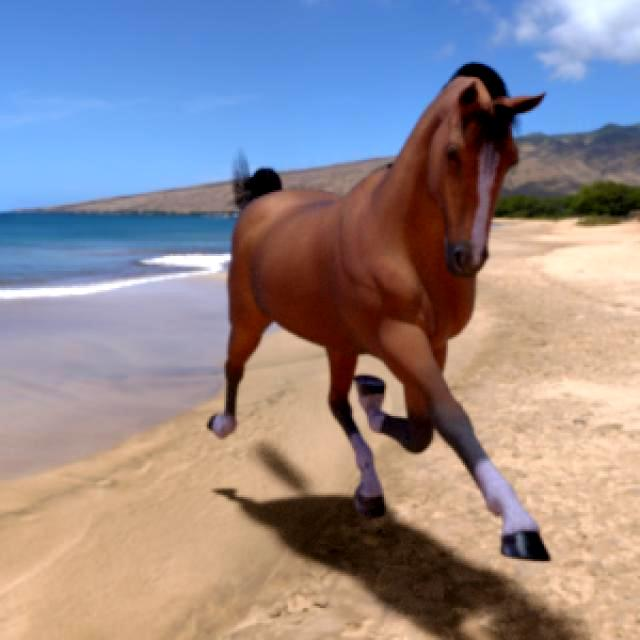horse: (208, 65, 548, 558)
